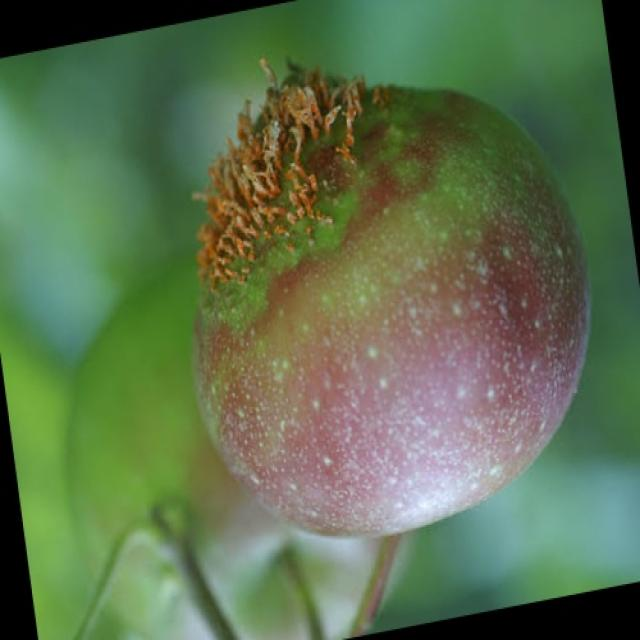Gymnosporangium_Rusts: (190, 54, 590, 540)
